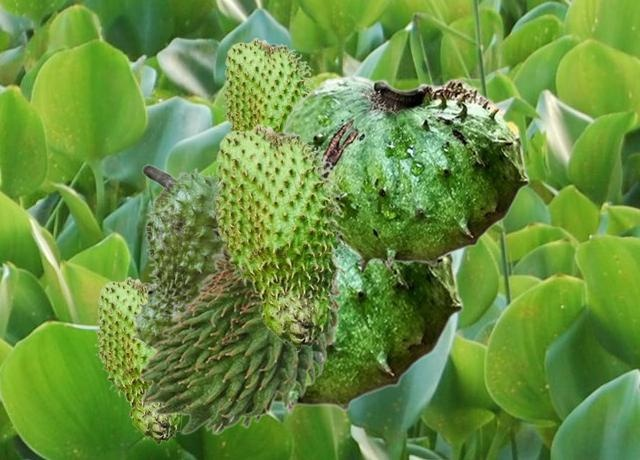guyabano: (152, 249, 463, 422), (280, 75, 529, 275), (137, 242, 342, 434), (211, 123, 347, 351), (129, 164, 221, 349), (94, 276, 182, 444), (221, 37, 317, 131)
